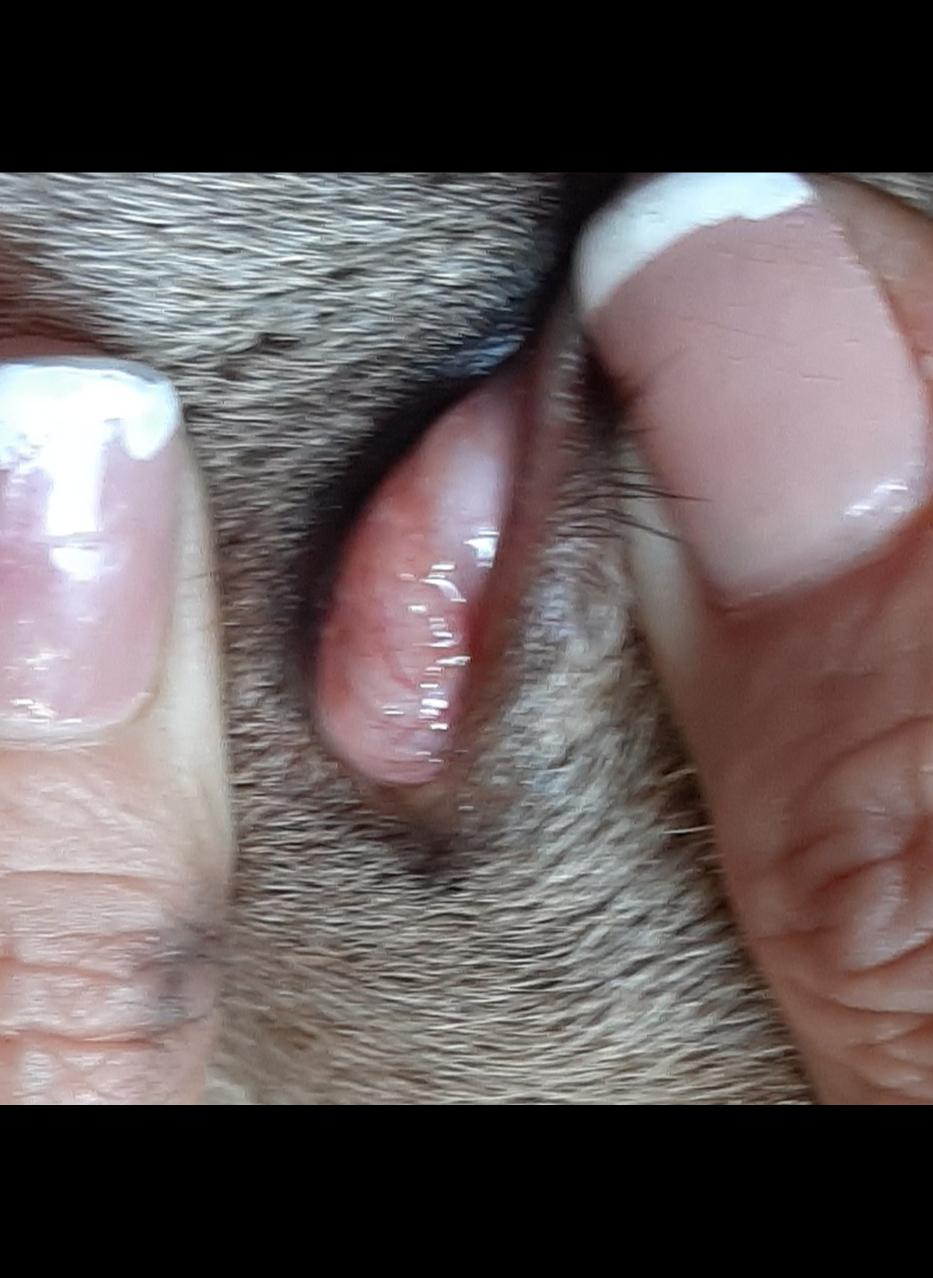eye_membrane: (316, 364, 526, 786)
